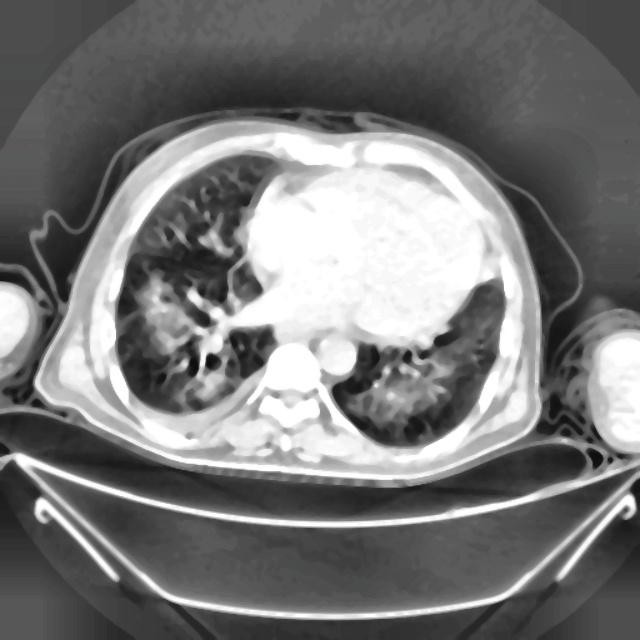covid: (35, 108, 557, 487)
